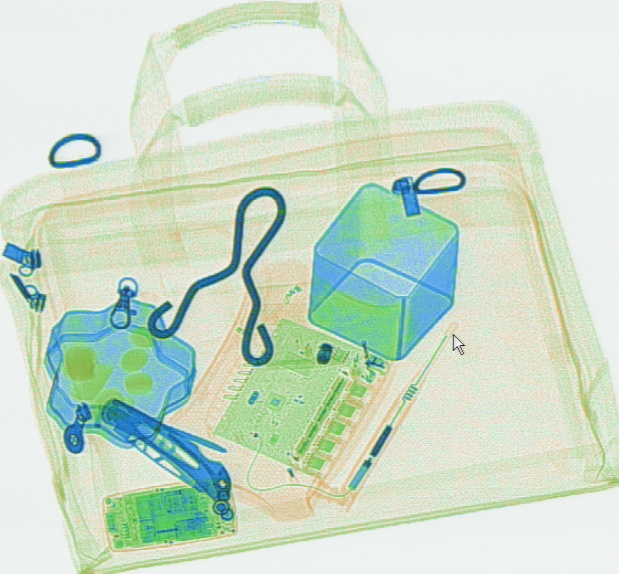knife: (98, 388, 229, 498)
slingshot: (141, 180, 287, 368)
